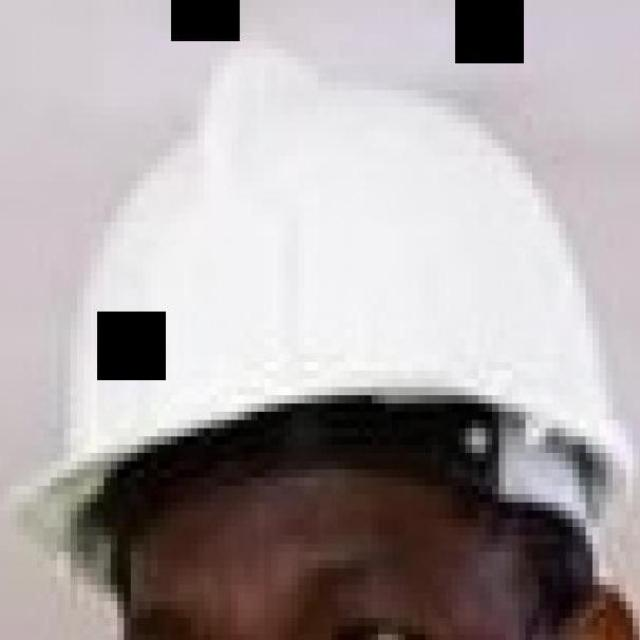white helmet: (37, 67, 632, 478)
